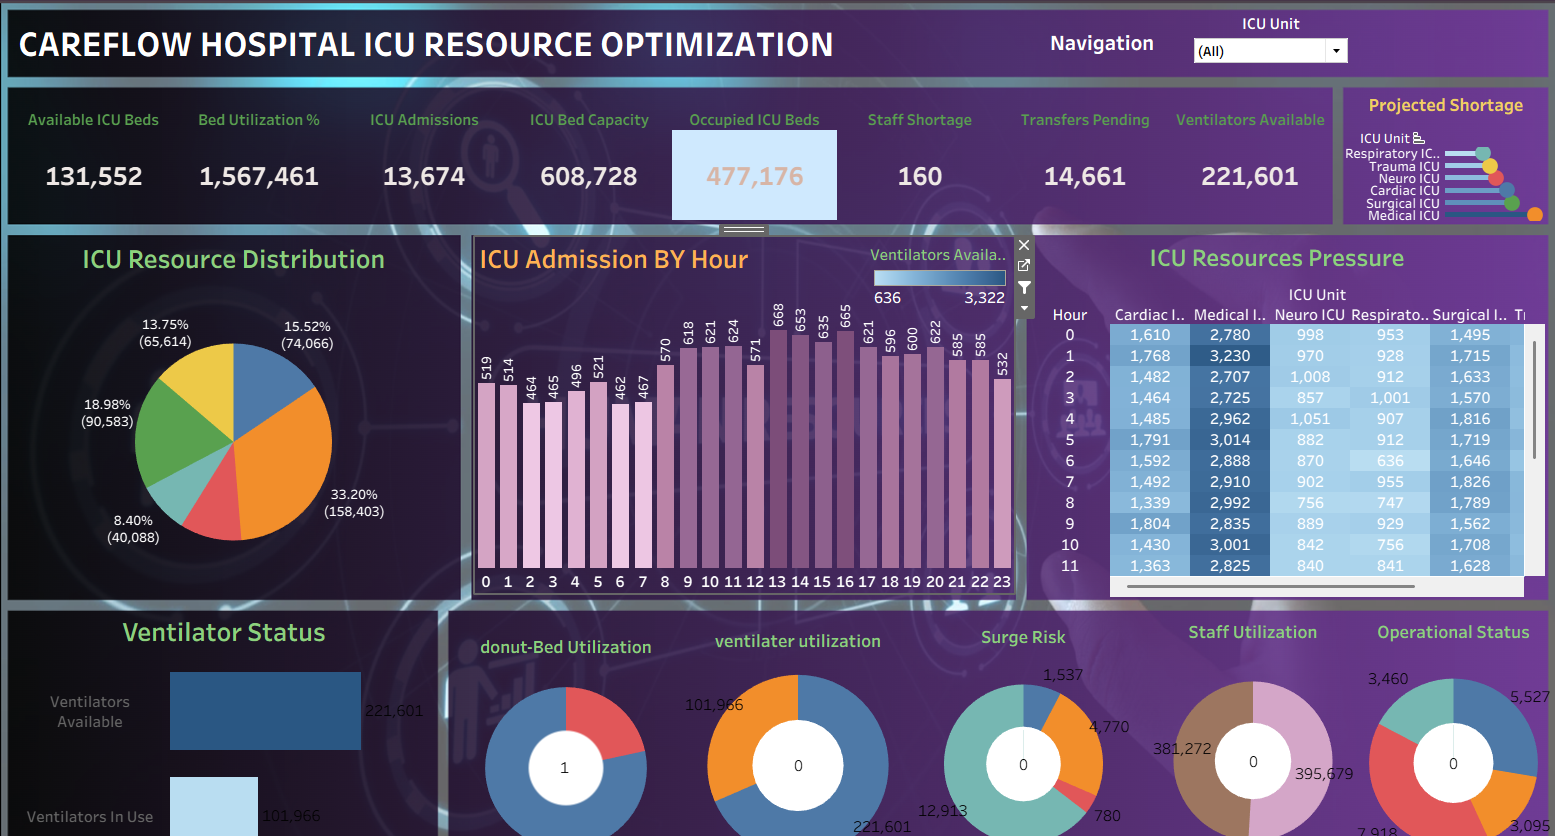

The dashboard page shown, as its layout file describes it:
{"tool":"tableau","page":{"name":"Dashboard 1","canvas":[1580,900],"ordinal":0},"visuals":[{"type":"image","param":"Image/HR_background_converted_2.png","box":[8,8,1564,884]},{"type":"text","box":[28,26,1062,60]},{"type":"filter","title":"ICU Resource Distribution","param":"[federated.01hbx6p0i9cr1018l5c3y06zrbht].[none:ICU_Unit:nk]","box":[1204,26,160,62]},{"type":"dashboard-object","box":[1033,29,164,52]},{"type":"worksheet","title":"Projected Shortage","mark":"Automatic","rows":["ICU_Unit"],"cols":["Projected_Bed_Shortage_24h","Projected_Bed_Shortage_24h"],"box":[1358,102,202,132]},{"type":"worksheet","title":"KPI","mark":"Automatic","box":[24,103,1322,130]},{"type":"worksheet","title":"ICU Resource Distribution","mark":"Pie","box":[21,250,451,361]},{"type":"worksheet","title":"ICU Admission BY Hour","mark":"Bar","rows":["ICU_Admissions"],"cols":["Hour (bin)"],"box":[488,250,539,356]},{"type":"worksheet","title":"ICU Resources Pressure","mark":"Square","rows":["Hour"],"cols":["ICU_Unit"],"box":[1043,250,515,360]},{"type":"legend","title":"ICU Resources Pressure","param":"[federated.01hbx6p0i9cr1018l5c3y06zrbht].[sum:Ventilators_Available:qk]","box":[883,257,140,100]},{"type":"worksheet","title":"Ventilator Status","mark":"Automatic","box":[23,623,428,258]},{"type":"worksheet","title":"Staff Utilization","mark":"Pie","cols":["Calculation_1371689289744392","Calculation_1371689289744392"],"box":[1165,628,202,253]},{"type":"worksheet","title":"Operational Status","mark":"Pie","cols":["Calculation_1371689289744392","Calculation_1371689289744392"],"box":[1369,628,195,257]},{"type":"worksheet","title":"Surge Risk","mark":"Pie","cols":["Calculation_1371689289744392","Calculation_1371689289744392"],"box":[930,633,213,249]},{"type":"worksheet","title":"ventilater utilization","mark":"Pie","cols":["Calculation_1371689289744392","Calculation_1371689289744392"],"box":[697,637,228,244]},{"type":"worksheet","title":"donut-Bed Utilization","mark":"Pie","cols":["Calculation_1371689287966727","Calculation_1371689287966727"],"box":[466,643,226,237]}]}

Visuals, with their boxes on the page's 1580x900 design canvas (x1, y1, x2, y2). These are canvas units, not pixel positions in the 1556x836 screenshot, which may show the page scaled, cropped or inside an application window:
image: (x1=8, y1=8, x2=1572, y2=892)
text: (x1=28, y1=26, x2=1090, y2=86)
"ICU Resource Distribution" filter: (x1=1204, y1=26, x2=1364, y2=88)
dashboard-object: (x1=1033, y1=29, x2=1197, y2=81)
"Projected Shortage" worksheet: (x1=1358, y1=102, x2=1560, y2=234)
"KPI" worksheet: (x1=24, y1=103, x2=1346, y2=233)
"ICU Resource Distribution" worksheet (Pie marks): (x1=21, y1=250, x2=472, y2=611)
"ICU Admission BY Hour" worksheet (Bar marks): (x1=488, y1=250, x2=1027, y2=606)
"ICU Resources Pressure" worksheet (Square marks): (x1=1043, y1=250, x2=1558, y2=610)
"ICU Resources Pressure" legend: (x1=883, y1=257, x2=1023, y2=357)
"Ventilator Status" worksheet: (x1=23, y1=623, x2=451, y2=881)
"Staff Utilization" worksheet (Pie marks): (x1=1165, y1=628, x2=1367, y2=881)
"Operational Status" worksheet (Pie marks): (x1=1369, y1=628, x2=1564, y2=885)
"Surge Risk" worksheet (Pie marks): (x1=930, y1=633, x2=1143, y2=882)
"ventilater utilization" worksheet (Pie marks): (x1=697, y1=637, x2=925, y2=881)
"donut-Bed Utilization" worksheet (Pie marks): (x1=466, y1=643, x2=692, y2=880)
